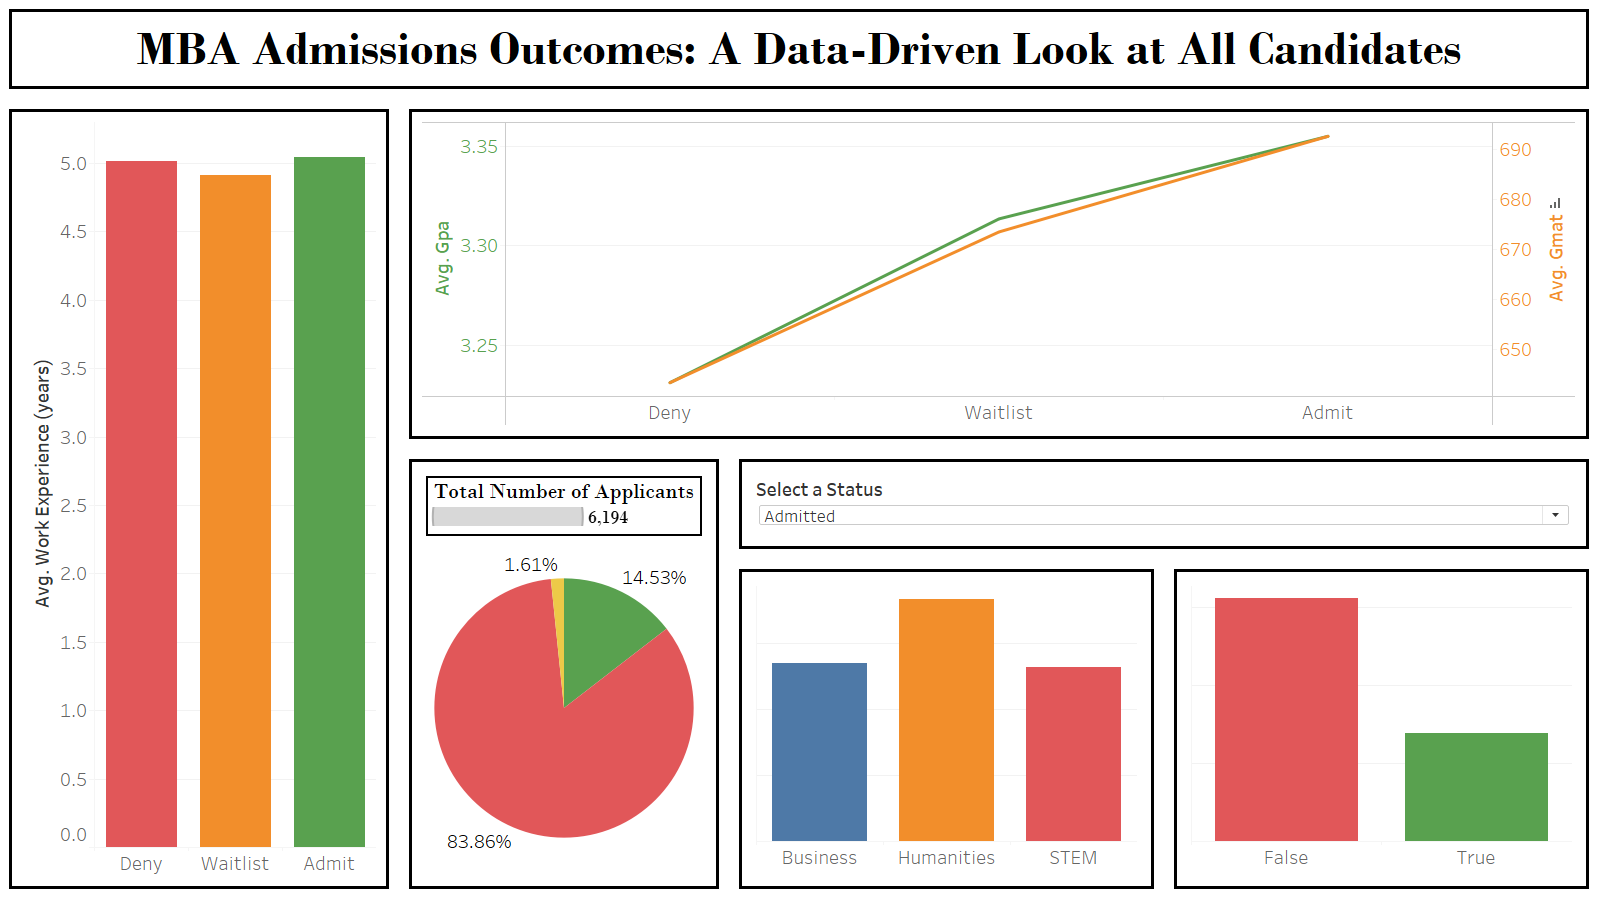

The page's visual inventory and layout, read from the dashboard file:
{"tool":"tableau","page":{"name":"Dashboard 1","canvas":[1600,900],"ordinal":0},"visuals":[{"type":"text","box":[0,0,1600,100]},{"type":"worksheet","title":"Sheet 2","mark":"Automatic","rows":["work_exp"],"cols":["admission"],"box":[0,100,400,800]},{"type":"worksheet","title":"Sheet 1","mark":"Line","rows":["gpa","gmat"],"cols":["admission"],"box":[400,100,1200,350]},{"type":"legend","title":"Sheet 6","param":"[federated.0rprtyo08b5ybn17l0wye0lxml8j].[sum:count (ADMISSION):qk]","box":[423,473,284,68]},{"type":"parameter","param":"[Parameters].[Parameter 1]","box":[753,473,824,64]},{"type":"worksheet","title":"Sheet 6","mark":"Pie","box":[423,541,284,336]},{"type":"worksheet","title":"Sheet 3","mark":"Automatic","rows":["count (MAJOR)"],"cols":["major (admitted)"],"box":[753,583,389,292]},{"type":"worksheet","title":"Sheet 4","mark":"Automatic","rows":["count (admitted)"],"cols":["international (admitted)"],"box":[1188,583,389,292]},{"type":"worksheet","title":"Sheet 7","mark":"Automatic","rows":["count 1"],"cols":["major (waitlist)"],"box":[753,875,389,1]},{"type":"worksheet","title":"Sheet 10","mark":"Automatic","rows":["count (waitlist)"],"cols":["international (waitlist)"],"box":[1188,875,389,1]},{"type":"worksheet","title":"Sheet 8","mark":"Automatic","rows":["count 2"],"cols":["major (deny)"],"box":[753,876,389,1]},{"type":"worksheet","title":"Sheet 9","mark":"Automatic","rows":["count (deny)"],"cols":["international (deny)"],"box":[1188,876,389,1]}]}

Visuals, with their boxes in screenshot pixels (x1, y1, x2, y2), scaled from the page's 1600x900 canvas onto the 1602x901 screenshot:
text: locate(0, 0, 1601, 100)
"Sheet 2" worksheet: locate(0, 100, 400, 900)
"Sheet 1" worksheet (Line marks): locate(400, 100, 1601, 450)
"Sheet 6" legend: locate(424, 474, 708, 542)
parameter: locate(754, 474, 1579, 538)
"Sheet 6" worksheet (Pie marks): locate(424, 542, 708, 878)
"Sheet 3" worksheet: locate(754, 584, 1143, 876)
"Sheet 4" worksheet: locate(1189, 584, 1579, 876)
"Sheet 7" worksheet: locate(754, 876, 1143, 877)
"Sheet 10" worksheet: locate(1189, 876, 1579, 877)
"Sheet 8" worksheet: locate(754, 877, 1143, 878)
"Sheet 9" worksheet: locate(1189, 877, 1579, 878)
